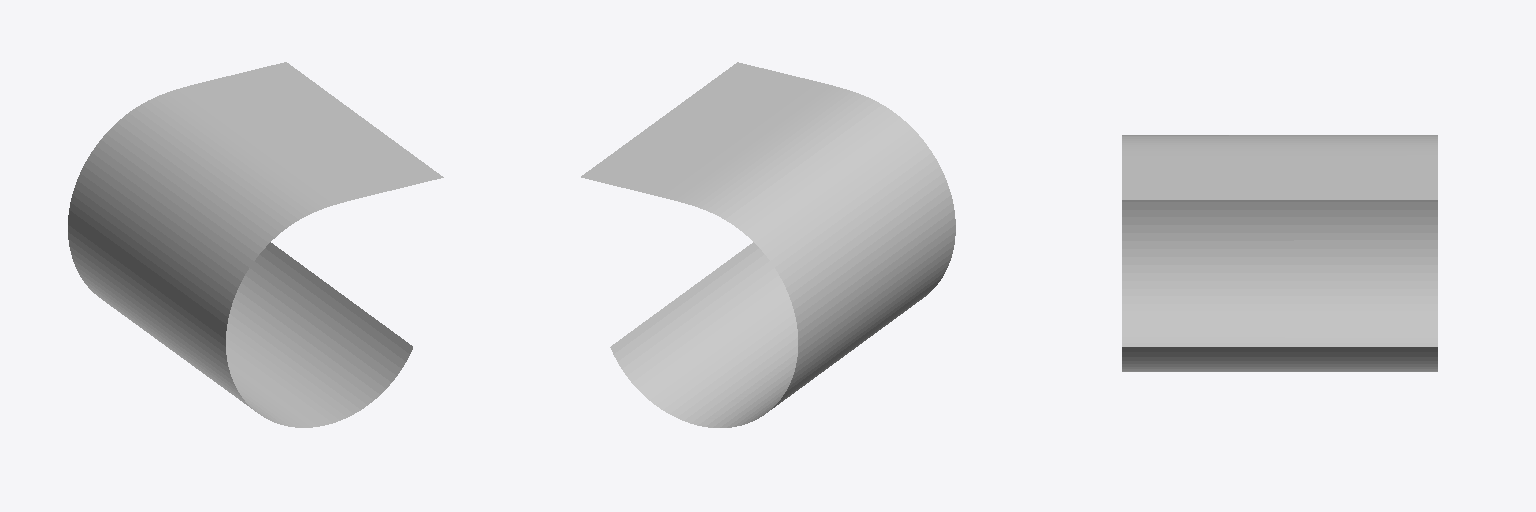
File: CurvePaper_000027.obj
3 renders of one model, left to right at view 1: azimuth 30°, elevation 25°; view 2: azimuth 150°, elevation 25°; view 3: azimuth 270°, elevation 25°, orthographic.
Visible parts, largest first — view 1: Plane; view 2: Plane; view 3: Plane.
Part boxes in pixels (x1,y1,x2,y2): Plane: (68,62,443,427); Plane: (581,62,955,427); Plane: (1122,135,1437,371).
Bounding box in the file's own units: 1.81 × 1.74 × 2.26.